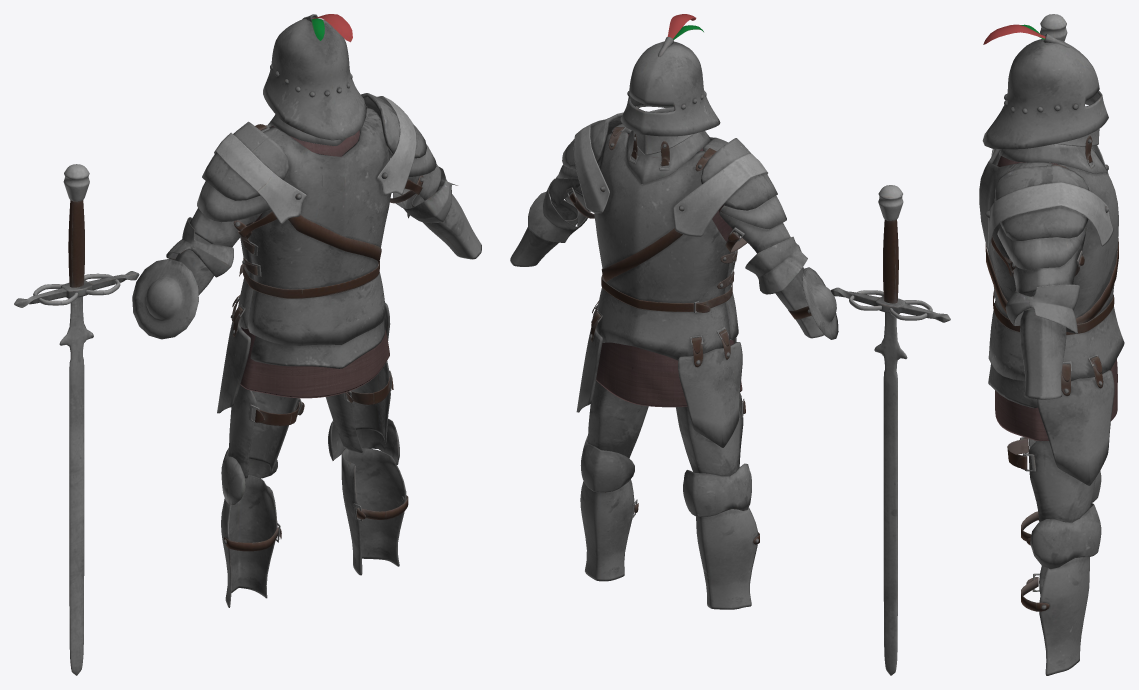
The picture shows the model from 3 angles, left to right: view 1: azimuth 30°, elevation 25°; view 2: azimuth 150°, elevation 25°; view 3: azimuth 270°, elevation 25°; orthographic projection. The views are drawn at different scales.
Visible parts, largest first — view 1: Cuirass_Back, LowerLegArmor, Helmet, UpperLegArmor, Cube.010, Cylinder.006, ArmFasteners, Cylinder.014, ArmArmor_0, Plane.007, ElbowsAr, KneesArmor (+12 smaller); view 2: Cuirass_front, LowerLegArmor, Helmet, HipsArmor, UpperLegArmor, Cube.010, ArmFasteners, Cylinder.006, KneesArmor, ElbowsAr, ArmArmor_0, ShowldersArm (+13 smaller); view 3: Helmet, Cuirass_front, HipsArmor, LowerLegArmor, Cuirass_Back, ArmArmor_0, ArmFasteners, ShowldersArm, UpperLegArmor, KneesArmor, ElbowsAr, ArmArmor_1 (+12 smaller).
Boxes of the visible parts, x1,y1,x2,y2 form: Cuirass_Back: (247,107,391,345); LowerLegArmor: (221,448,406,607); Helmet: (263,18,366,140); UpperLegArmor: (228,361,390,478); Cube.010: (59,296,93,675); Cylinder.006: (240,126,389,398); ArmFasteners: (214,96,416,224); Cylinder.014: (132,258,198,339); ArmArmor_0: (202,93,426,200); Plane.007: (250,318,385,368); ElbowsAr: (166,166,457,277); KneesArmor: (221,418,399,504); Cuirass_front: (594,131,730,360); LowerLegArmor: (580,479,758,609); Helmet: (620,41,720,136); HipsArmor: (576,327,742,447); UpperLegArmor: (588,380,743,476); Cube.010: (874,312,907,675); ArmFasteners: (573,119,767,236); Cylinder.006: (596,134,742,407); KneesArmor: (580,435,751,516); ElbowsAr: (528,178,807,294); ArmArmor_0: (562,112,777,210); ShowldersArm: (510,199,824,338); Helmet: (982,39,1108,149); Cuirass_front: (1057,163,1124,380); HipsArmor: (1037,370,1114,485); LowerLegArmor: (1039,557,1089,675); Cuirass_Back: (979,149,1053,381); ArmArmor_0: (994,165,1089,240); ArmFasteners: (988,145,1113,247); ShowldersArm: (1020,309,1066,399); UpperLegArmor: (1028,438,1095,522); KneesArmor: (1030,471,1101,569); ElbowsAr: (1005,284,1079,333); ArmArmor_1: (997,226,1086,269).
Size of the model in its own units: 1383 by 1760 by 360.
1 material, 1 textured.
